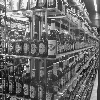beer: (45, 18, 59, 61)
